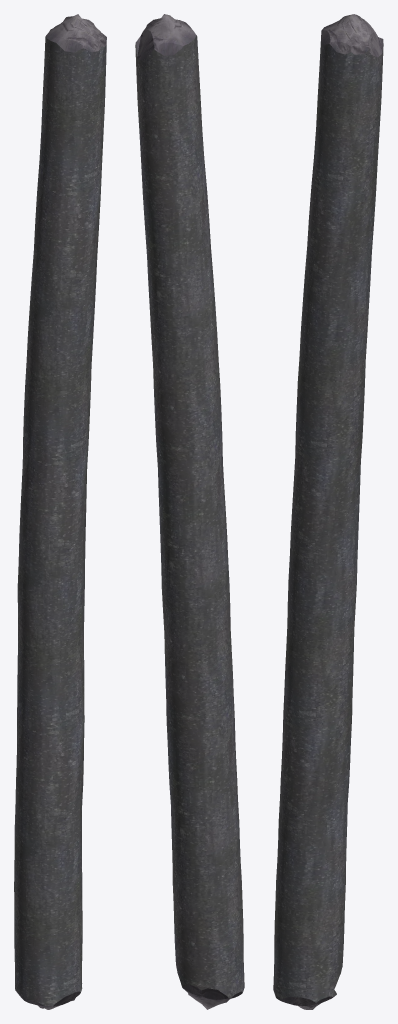
The picture shows the model from 3 angles, left to right: view 1: azimuth 30°, elevation 25°; view 2: azimuth 150°, elevation 25°; view 3: azimuth 330°, elevation 25°; orthographic projection.
Visible parts, largest first — view 1: SM_FH_Ash_Tree_02_tree_quarters_top_LOD0; view 2: SM_FH_Ash_Tree_02_tree_quarters_top_LOD0; view 3: SM_FH_Ash_Tree_02_tree_quarters_top_LOD0.
Part boxes in pixels (bbox=[...]): SM_FH_Ash_Tree_02_tree_quarters_top_LOD0: bbox=[14, 14, 106, 1009]; SM_FH_Ash_Tree_02_tree_quarters_top_LOD0: bbox=[135, 14, 244, 1009]; SM_FH_Ash_Tree_02_tree_quarters_top_LOD0: bbox=[273, 14, 383, 1009].
Size of the model in its own units: 0.6072 by 6.24 by 0.464.
1 material, 1 textured.
